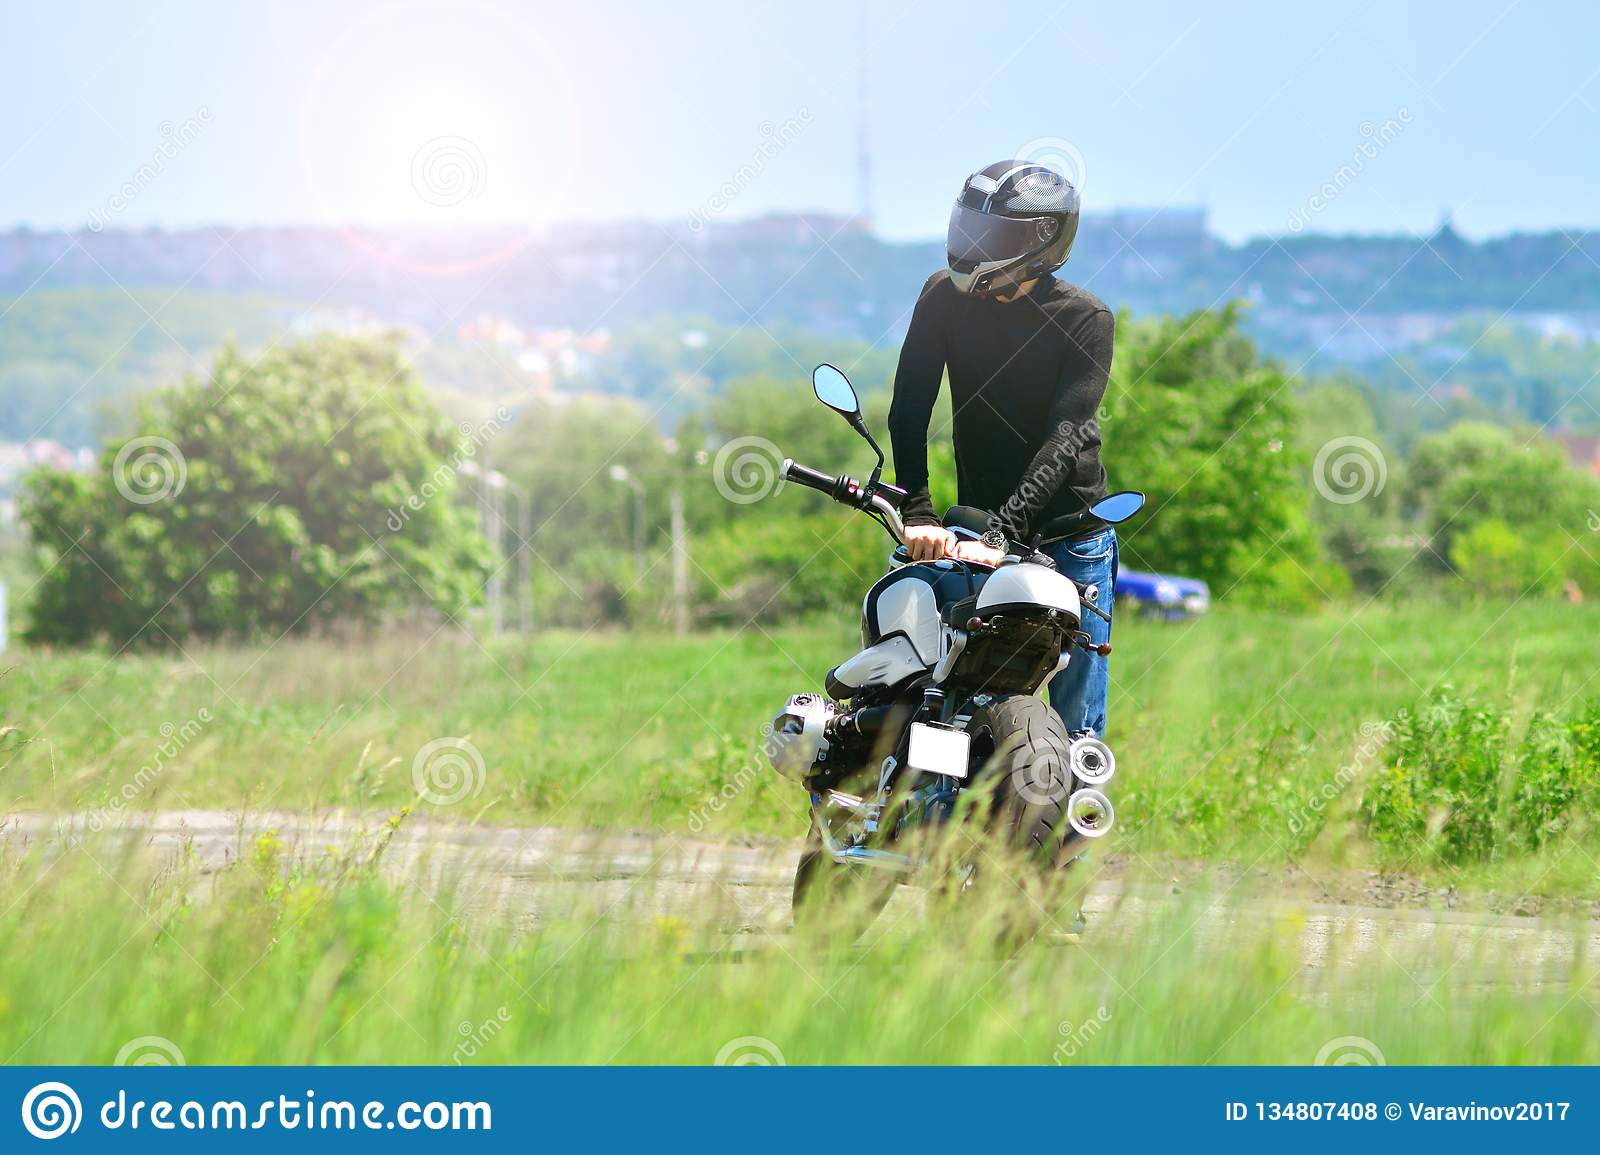helmet: (948, 145, 1082, 310)
